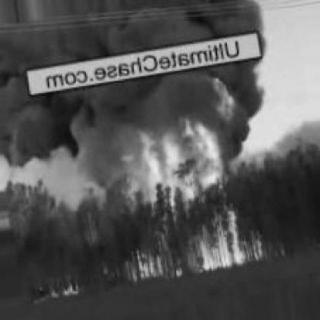Fire: (105, 67, 252, 285), (38, 276, 90, 302)
Smoke: (3, 2, 256, 118)
